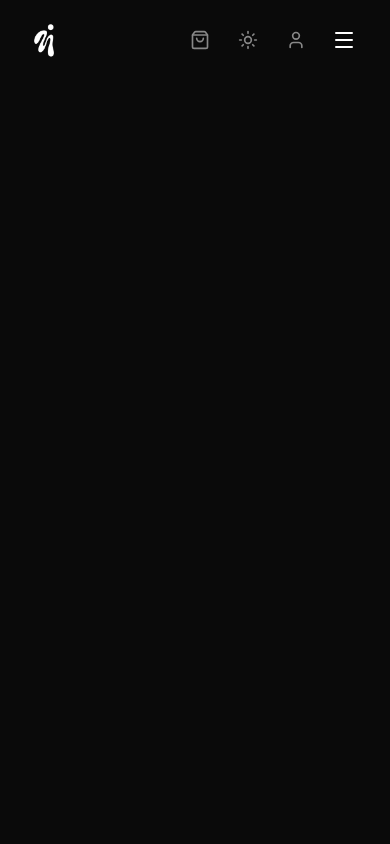
Scenario: Header — preference toggles (KAN-56) › mobile menu overlay contains both toggles at the bottom
Click the button named "Menu".
click(344, 40)  # box [322,18,366,62]
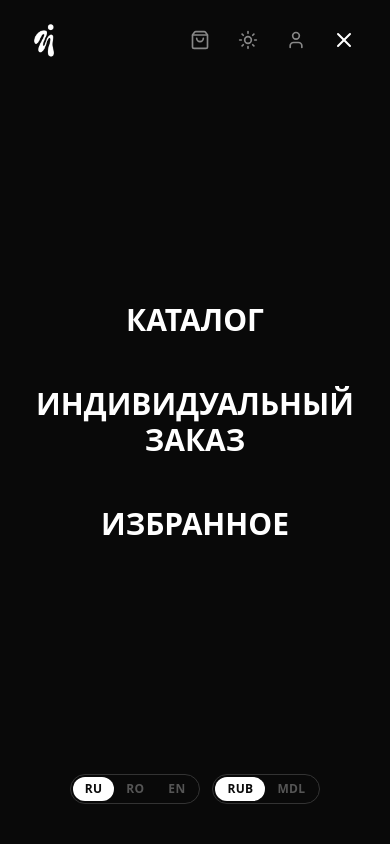
Check: the number of elements with test id "language-toggle" is 1, box [70,774,200,804]
Check: the number of elements with test id "currency-toggle" is 1, box [212,774,320,804]
Check: the element with test id "mobile-menu" shows "ИЗБРАННОЕ", box [85,498,305,550]
